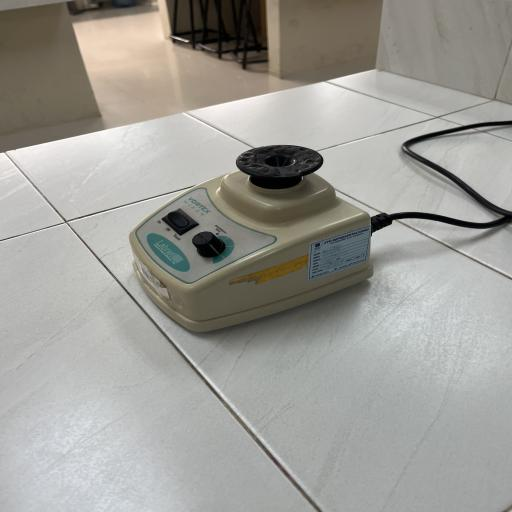Vortex_Mixer_LabNet: (103, 129, 398, 352)
